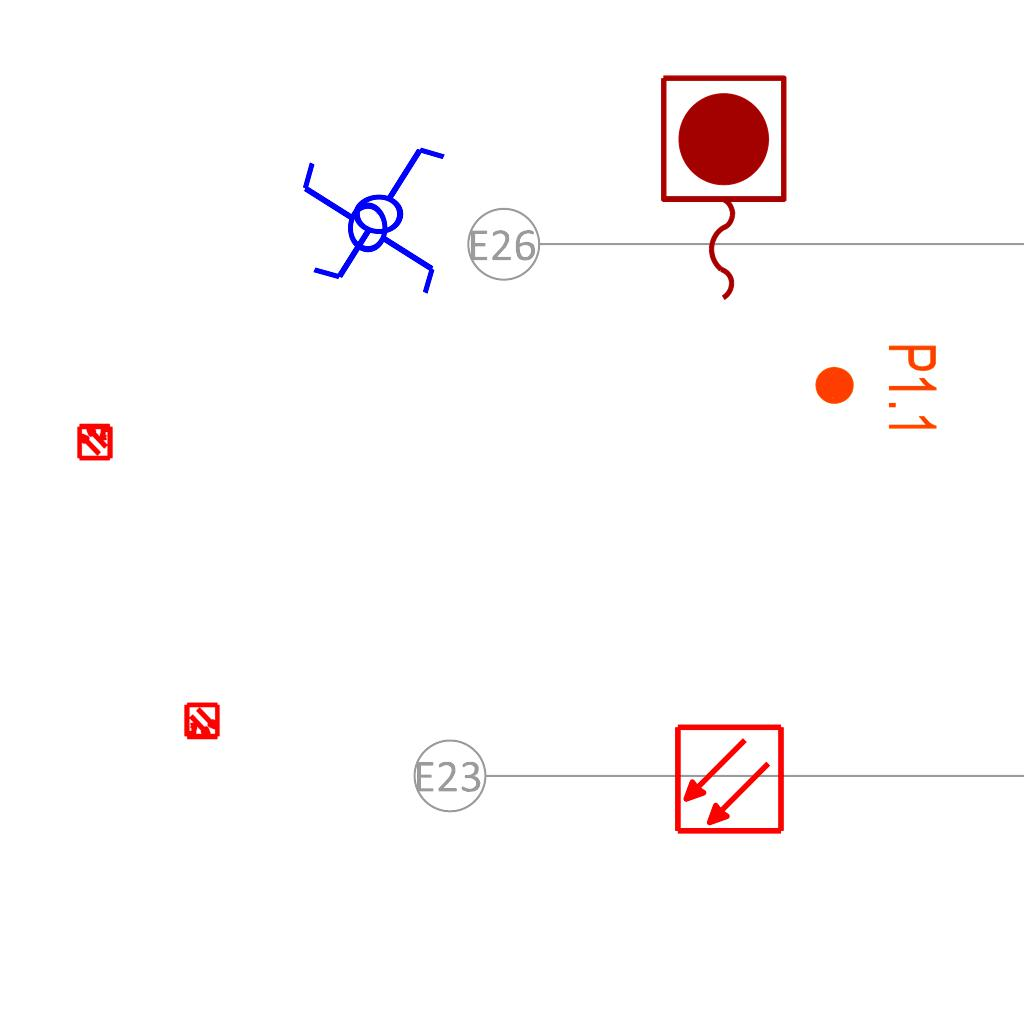Downlight_LED_Einbauleuchten_Flur: (812, 342, 940, 435)
OT_Multisensormelder_(Kombination_RMO_WMD): (67, 413, 123, 469), (174, 694, 230, 750)
RMO_Rauchmelder_optischer: (673, 723, 786, 836)
Wechselschalter: (292, 140, 449, 284), (298, 141, 442, 298)
Zugtaster: (650, 67, 794, 311)
